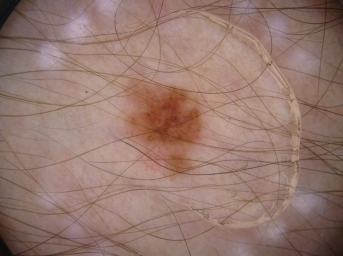nevus: (118, 80, 202, 173)
